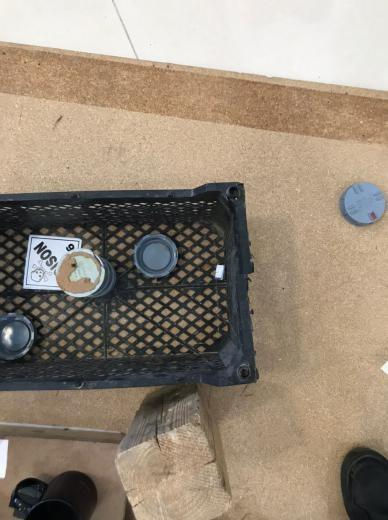poison: (24, 237, 82, 294)
